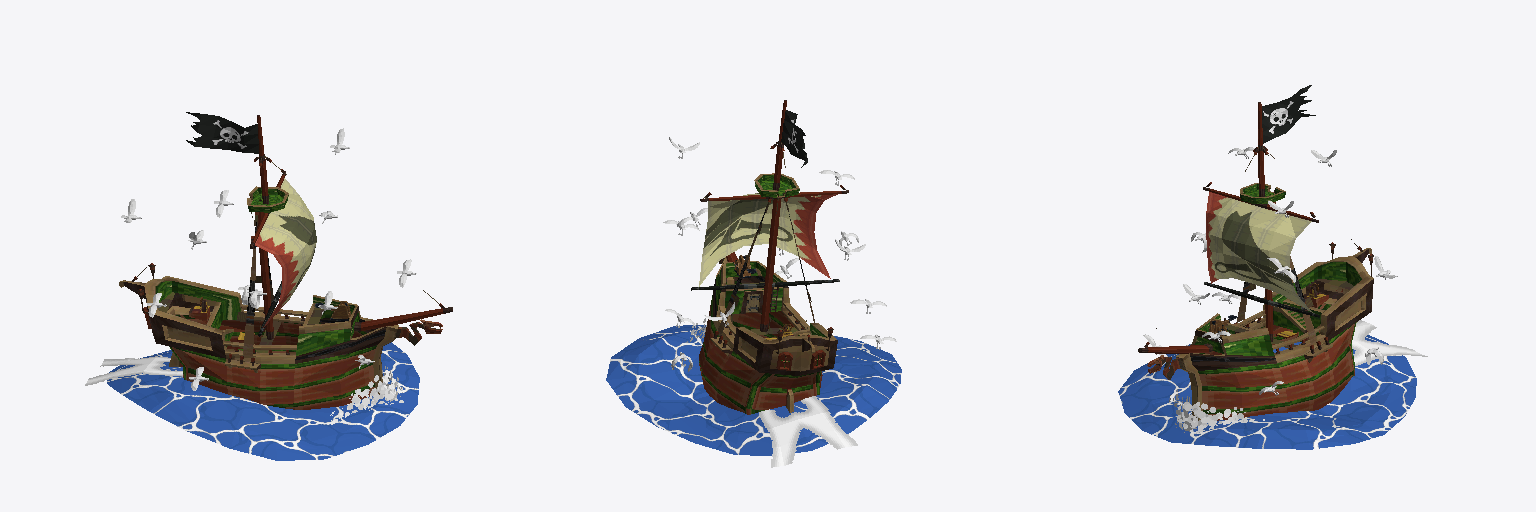
3 renders of one model, left to right at view 1: azimuth 30°, elevation 25°; view 2: azimuth 150°, elevation 25°; view 3: azimuth 270°, elevation 25°, orthographic.
Parts seen in each view (by area): view 1: polygon40, polygon39, polygon46, polygon1, polygon45, polygon2; view 2: polygon39, polygon40, polygon46, polygon2, polygon1, polygon45, polygon41; view 3: polygon40, polygon39, polygon46, polygon1, polygon45, polygon2.
Part boxes in pixels (bbox=[...]): polygon40: bbox=[119, 115, 452, 409]; polygon39: bbox=[107, 342, 419, 460]; polygon46: bbox=[255, 178, 316, 327]; polygon1: bbox=[121, 128, 416, 390]; polygon45: bbox=[186, 112, 258, 153]; polygon2: bbox=[85, 356, 182, 385]; polygon39: bbox=[606, 325, 901, 455]; polygon40: bbox=[699, 100, 848, 414]; polygon46: bbox=[699, 193, 837, 286]; polygon2: bbox=[759, 396, 857, 467]; polygon1: bbox=[663, 137, 896, 371]; polygon45: bbox=[781, 110, 807, 167]; polygon41: bbox=[691, 279, 839, 290]; polygon40: bbox=[1138, 102, 1373, 420]; polygon39: bbox=[1118, 335, 1416, 449]; polygon46: bbox=[1206, 192, 1312, 312]; polygon1: bbox=[1143, 147, 1397, 395]; polygon45: bbox=[1262, 85, 1315, 143]; polygon2: bbox=[1352, 320, 1427, 365].
Size of the model in its own units: 19.23 by 19.44 by 19.02.
13 materials, 12 textured.